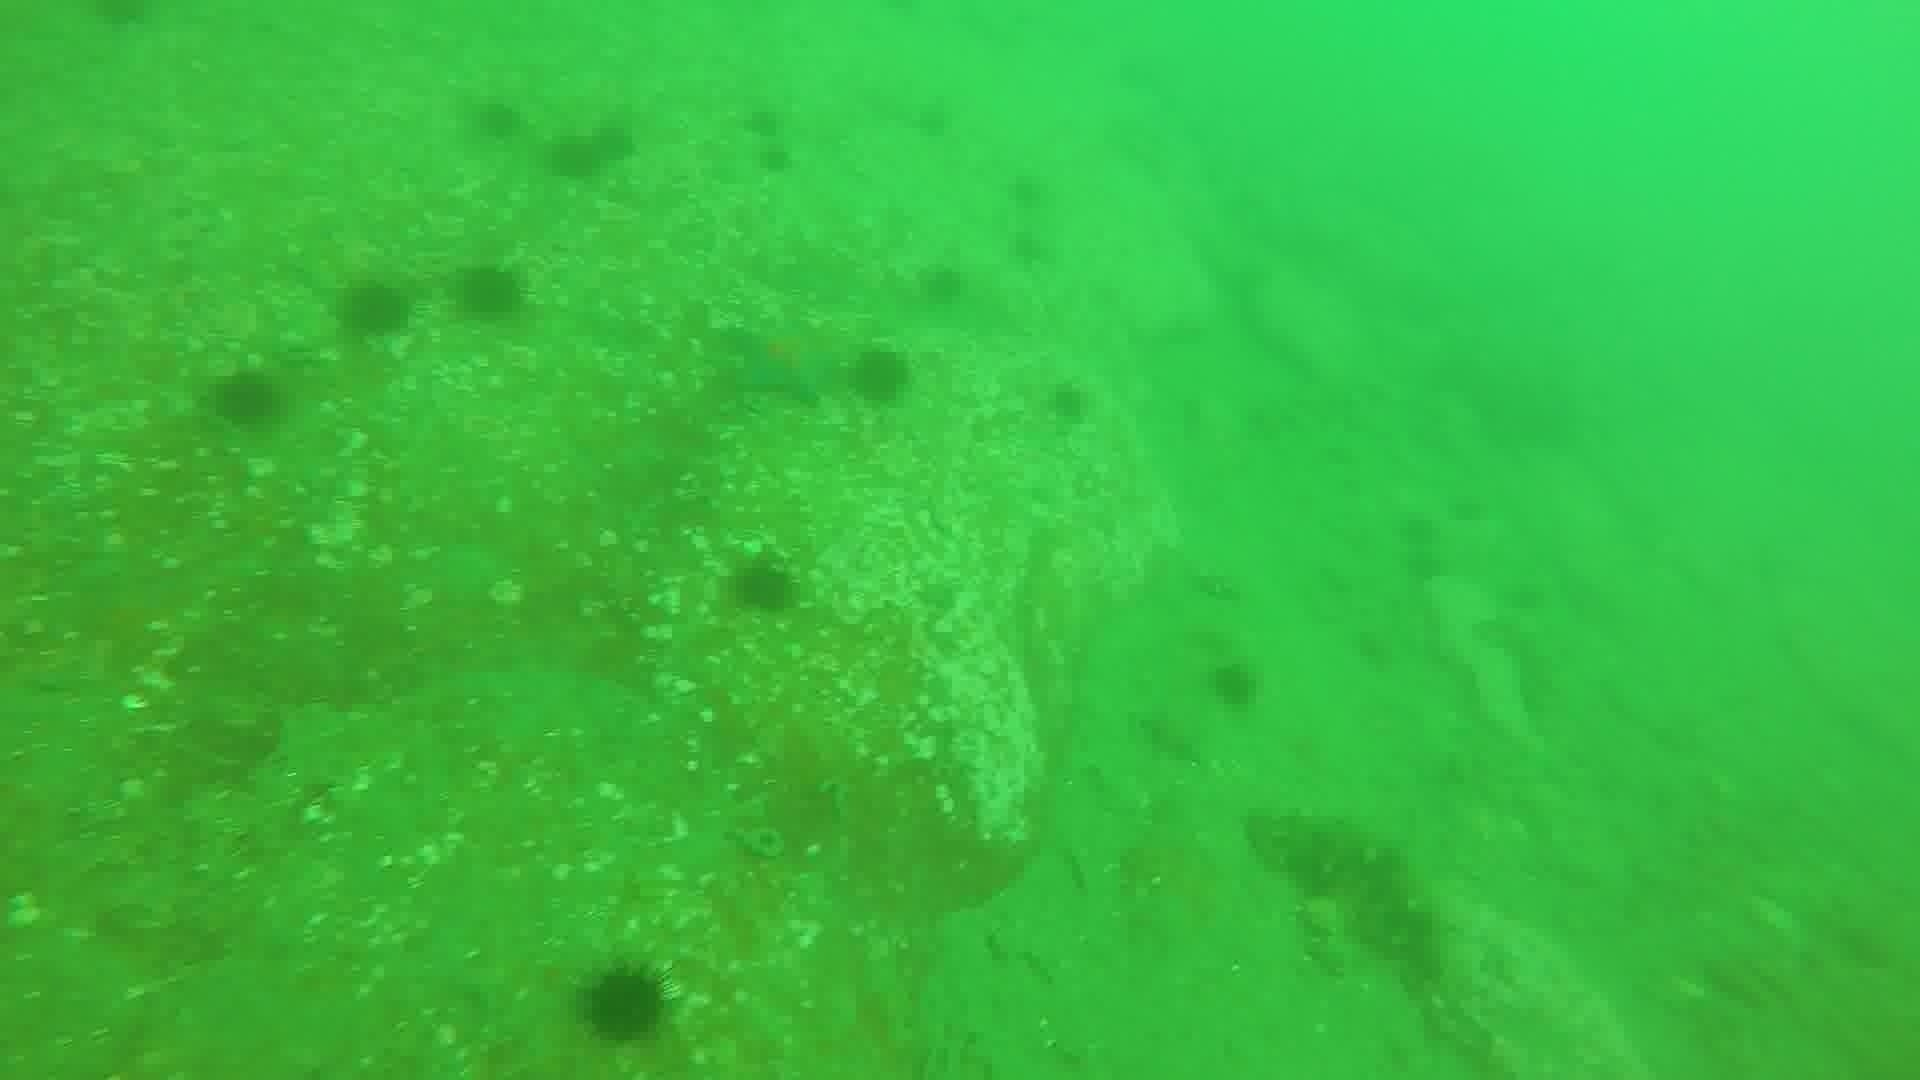echinus: (575, 961, 673, 1048), (332, 274, 417, 344), (204, 365, 287, 434), (450, 258, 531, 326), (723, 553, 804, 620), (543, 123, 625, 185), (843, 342, 916, 410), (582, 115, 642, 174), (1203, 655, 1265, 713), (1039, 376, 1098, 431), (465, 94, 527, 146), (913, 257, 971, 311), (742, 96, 795, 142), (749, 136, 799, 179)
holothurian: (1249, 802, 1451, 988)
starfish: (723, 314, 843, 409)
